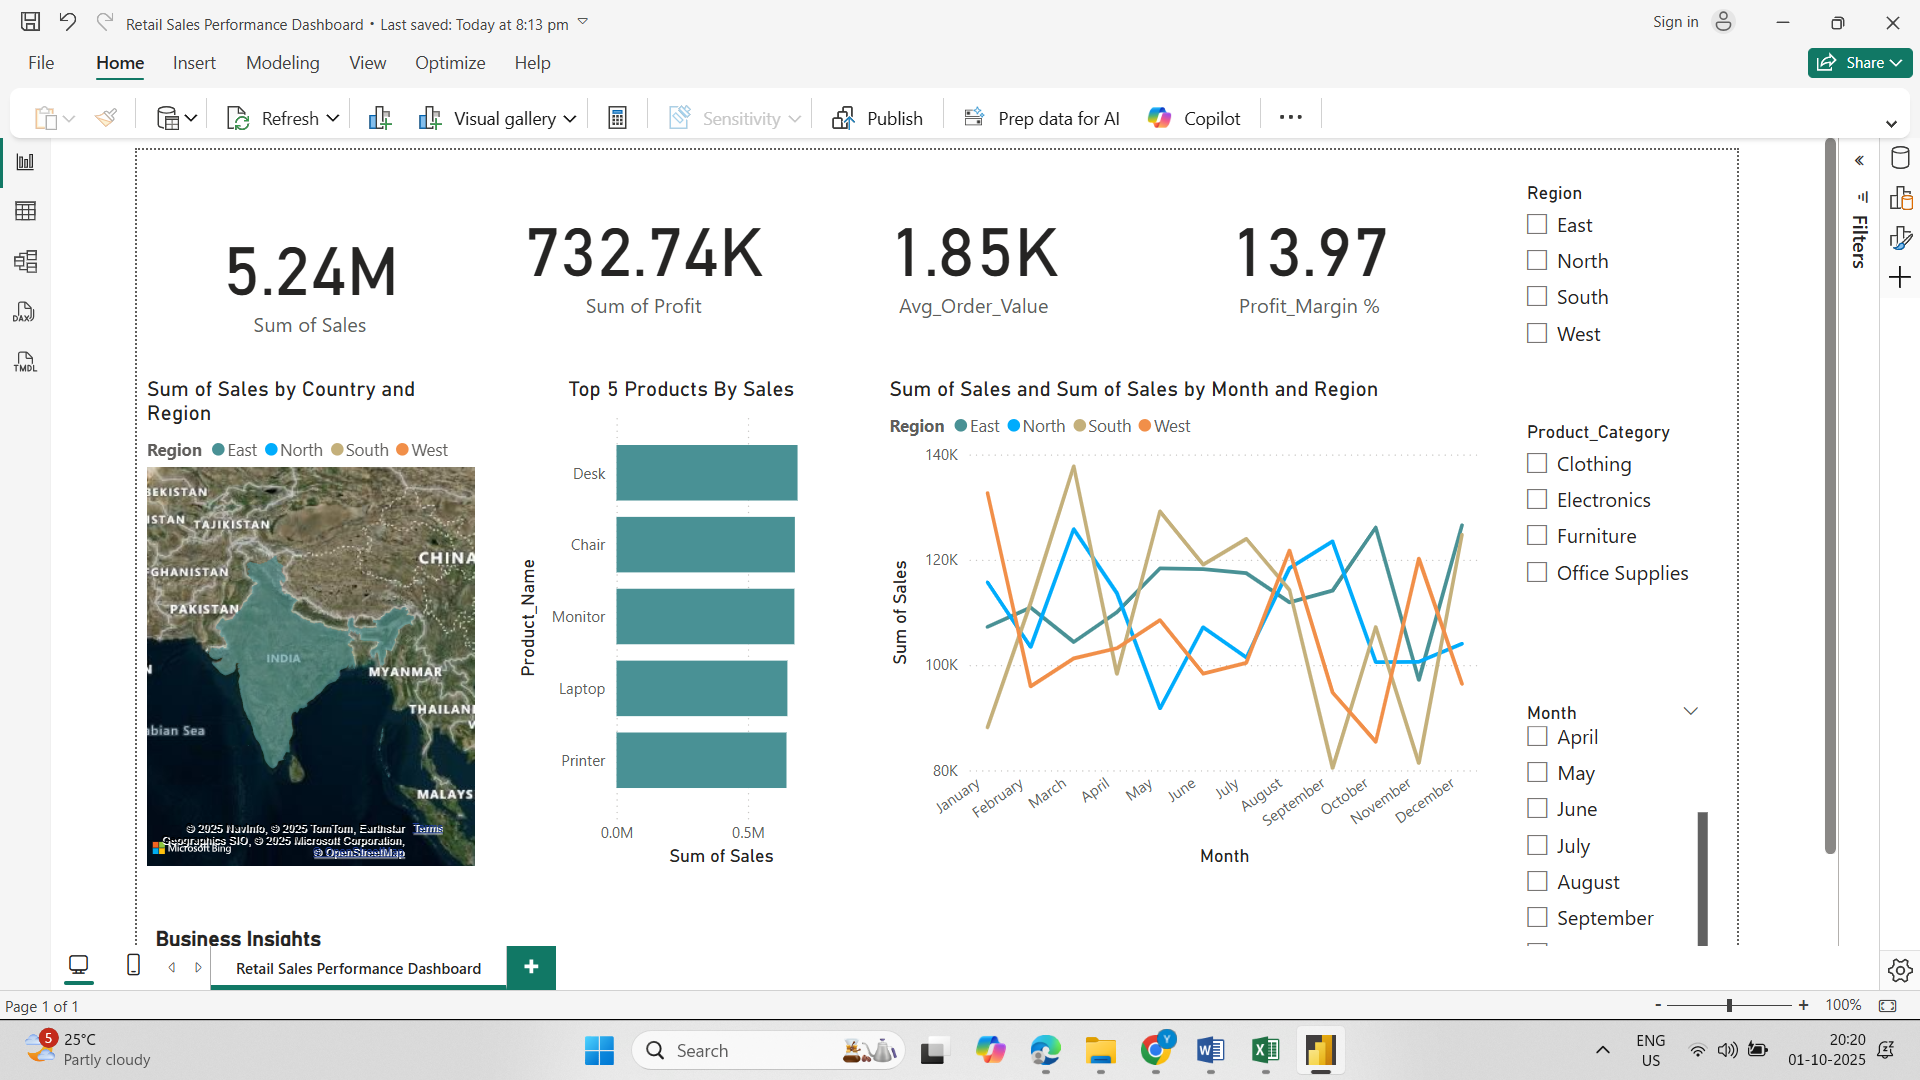

This screenshot's page, from the dashboard's own definition file:
{"tool":"powerbi","page":{"name":"Retail Sales Performance Dashboard","canvas":[1280,720],"ordinal":0},"visuals":[{"type":"card","fields":{"Values":["Sum(Retail_Sales_Dashboard_Dataset_.Sales)"]},"box":[10.1,21.4,257,160.1],"z":0},{"type":"card","fields":{"Values":["Sum(Retail_Sales_Dashboard_Dataset_.Profit)"]},"box":[281.8,21.4,246.8,129.6],"z":1},{"type":"card","fields":{"Values":["Retail_Sales_Dashboard_Dataset_.Avg_Order_Value"]},"box":[551.2,21.4,236.7,129.6],"z":2},{"type":"card","fields":{"Values":["Retail_Sales_Dashboard_Dataset_.Profit_Margin %"]},"box":[818.3,21.4,240.1,129.6],"z":3},{"type":"filledMap","fields":{"Category":["Retail_Sales_Dashboard_Dataset_.Country"],"Series":["Retail_Sales_Dashboard_Dataset_.Region"]},"box":[3.4,181.5,271.6,396.7],"z":4},{"type":"clusteredBarChart","title":"Top 5 Products By Sales","fields":{"Category":["Retail_Sales_Dashboard_Dataset_.Product_Name"],"Y":["Sum(Retail_Sales_Dashboard_Dataset_.Sales)"]},"box":[299.8,181.5,271.6,396.7],"z":5},{"type":"lineChart","fields":{"Category":["Retail_Sales_Dashboard_Dataset_.Order_Date.Variation.Date Hierarchy.Month"],"Y":["Sum(Retail_Sales_Dashboard_Dataset_.Sales)"],"Series":["Retail_Sales_Dashboard_Dataset_.Region"]},"box":[597.4,181.5,481.3,396.7],"z":6},{"type":"slicer","fields":{"Values":["Retail_Sales_Dashboard_Dataset_.Region"]},"box":[1098.9,21.4,163.4,160.1],"z":8},{"type":"slicer","fields":{"Values":["Retail_Sales_Dashboard_Dataset_.Product_Category"]},"box":[1098.9,211.9,163.4,172.4],"z":9},{"type":"slicer","fields":{"Values":["Retail_Sales_Dashboard_Dataset_.Order_Date.Variation.Date Hierarchy.Month"]},"box":[1098.9,437.3,163.4,282.9],"z":10},{"type":"textbox","title":"Business Insights","box":[10.1,621,1068.5,99.2],"z":11}]}

Visuals, with their boxes on the page's 1280x720 design canvas (x1, y1, x2, y2). These are canvas units, not pixel positions in the 1920x1080 screenshot, which may show the page scaled, cropped or inside an application window:
card - Sum(Retail_Sales_Dashboard_Dataset_.Sales): (left=10, top=21, right=267, bottom=182)
card - Sum(Retail_Sales_Dashboard_Dataset_.Profit): (left=282, top=21, right=529, bottom=151)
card - Retail_Sales_Dashboard_Dataset_.Avg_Order_Value: (left=551, top=21, right=788, bottom=151)
card - Retail_Sales_Dashboard_Dataset_.Profit_Margin %: (left=818, top=21, right=1058, bottom=151)
filledMap - Retail_Sales_Dashboard_Dataset_.Country x Retail_Sales_Dashboard_Dataset_.Region: (left=3, top=182, right=275, bottom=578)
"Top 5 Products By Sales" clusteredBarChart: (left=300, top=182, right=571, bottom=578)
lineChart - Retail_Sales_Dashboard_Dataset_.Order_Date.Variation.Date Hierarchy.Month x Sum(Retail_Sales_Dashboard_Dataset_.Sales): (left=597, top=182, right=1079, bottom=578)
slicer - Retail_Sales_Dashboard_Dataset_.Region: (left=1099, top=21, right=1262, bottom=182)
slicer - Retail_Sales_Dashboard_Dataset_.Product_Category: (left=1099, top=212, right=1262, bottom=384)
slicer - Retail_Sales_Dashboard_Dataset_.Order_Date.Variation.Date Hierarchy.Month: (left=1099, top=437, right=1262, bottom=720)
"Business Insights" textbox: (left=10, top=621, right=1079, bottom=720)
